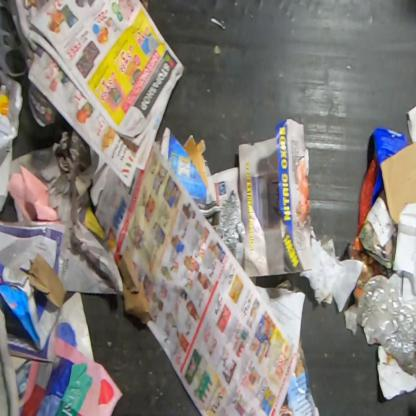cardboard: (0, 253, 69, 351), (116, 243, 153, 327), (379, 141, 415, 226), (182, 134, 212, 196)
metal: (215, 189, 246, 258)
rigid_plastic: (357, 273, 415, 378)
soft_plastic: (0, 6, 28, 77)
